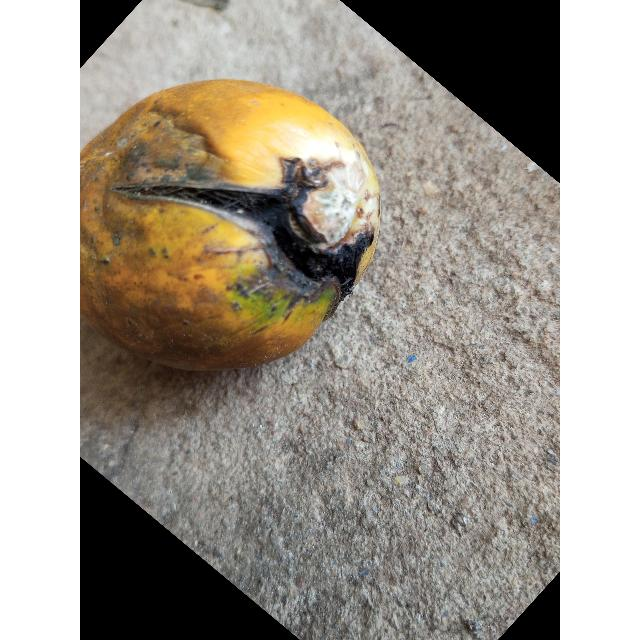damaged: (80, 78, 381, 375)
